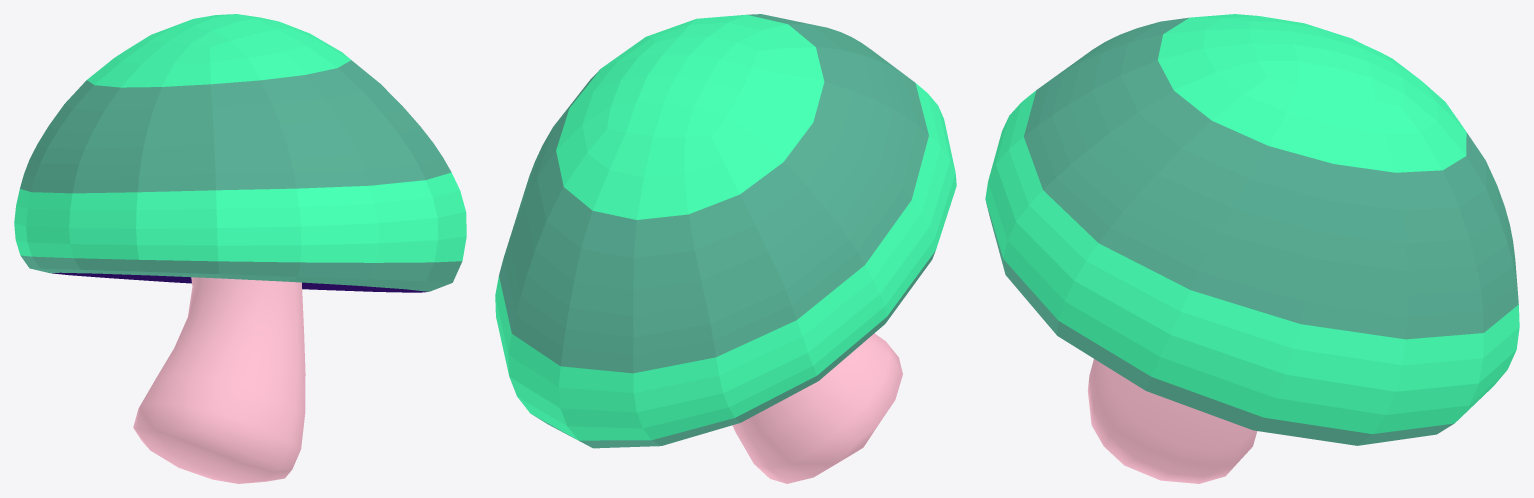
The model's file is Prop_Mushroom.glb.
3 views of the same model, side by side, from view 1: azimuth 30°, elevation 25°; view 2: azimuth 150°, elevation 25°; view 3: azimuth 270°, elevation 25° (orthographic). The views are drawn at different scales.
Visible parts, largest first — view 1: Prop_Mushroom; view 2: Prop_Mushroom; view 3: Prop_Mushroom.
Part boxes in pixels (bbox=[...]): Prop_Mushroom: bbox=[14, 14, 466, 483]; Prop_Mushroom: bbox=[495, 14, 956, 483]; Prop_Mushroom: bbox=[985, 14, 1519, 483].
Size of the model in its own units: 1.32 by 1.46 by 1.53.
1 material, 1 textured.
